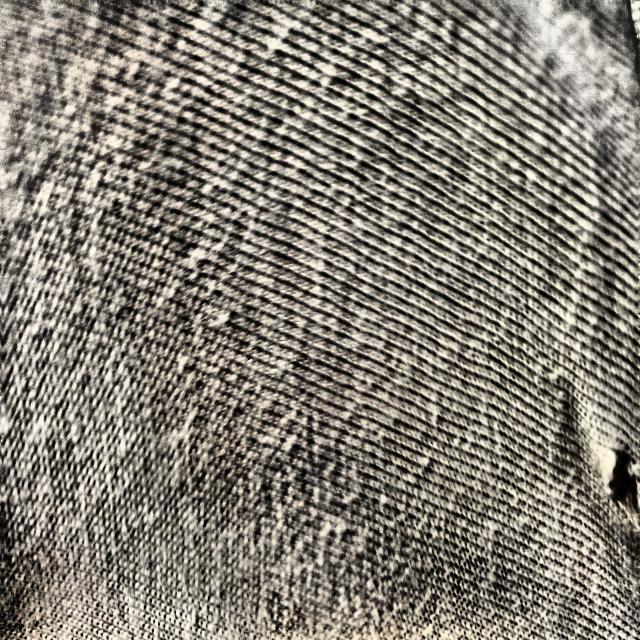Hole: (591, 428, 640, 542)
